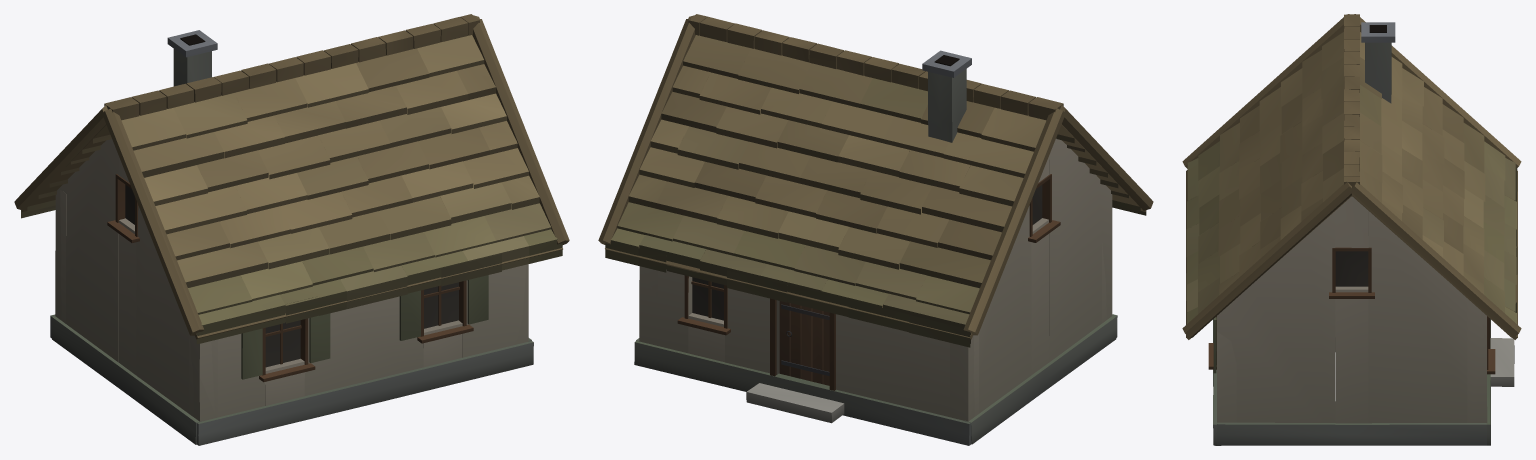
The model's file is ph_bld_v_cottage_a.glb.
3 renders of one model, left to right at view 1: azimuth 30°, elevation 25°; view 2: azimuth 150°, elevation 25°; view 3: azimuth 270°, elevation 25°, orthographic. The views are drawn at different scales.
Visible parts, largest first — view 1: ph_bld_v_cottage_a; view 2: ph_bld_v_cottage_a; view 3: ph_bld_v_cottage_a.
Part boxes in pixels (x1,y1,x2,y2): ph_bld_v_cottage_a: [14, 14, 569, 445]; ph_bld_v_cottage_a: [598, 14, 1153, 445]; ph_bld_v_cottage_a: [1182, 14, 1521, 445].
Size of the model in its own units: 6.19 by 5.06 by 5.15.
